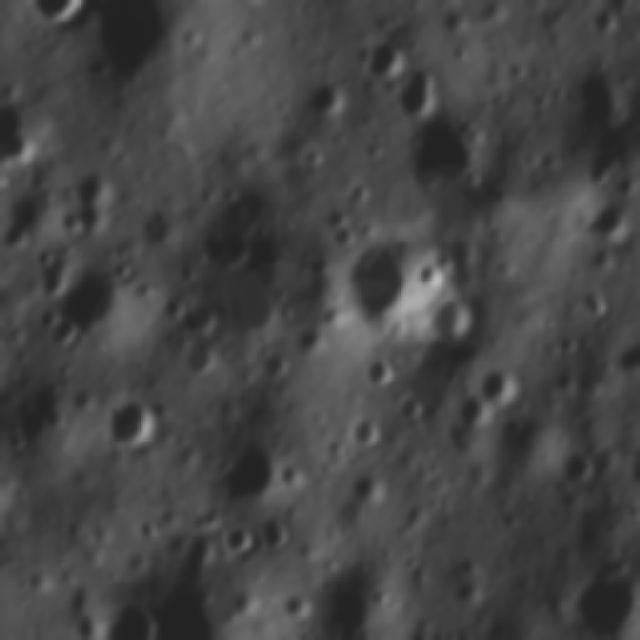crater: (337, 232, 445, 319), (80, 0, 189, 83), (406, 106, 496, 196), (566, 560, 640, 640), (212, 440, 288, 509), (52, 158, 117, 234), (61, 264, 128, 336), (425, 287, 490, 344), (2, 81, 46, 161), (386, 56, 440, 119), (100, 586, 162, 640), (106, 394, 162, 451), (354, 24, 400, 85), (578, 196, 634, 244), (23, 0, 85, 40), (477, 357, 526, 403), (302, 75, 348, 122), (182, 292, 230, 336), (259, 504, 298, 554), (388, 389, 428, 431), (212, 521, 260, 556), (555, 440, 594, 483), (350, 409, 382, 451), (363, 353, 399, 389), (182, 338, 213, 378), (623, 437, 640, 494), (223, 0, 269, 15)
